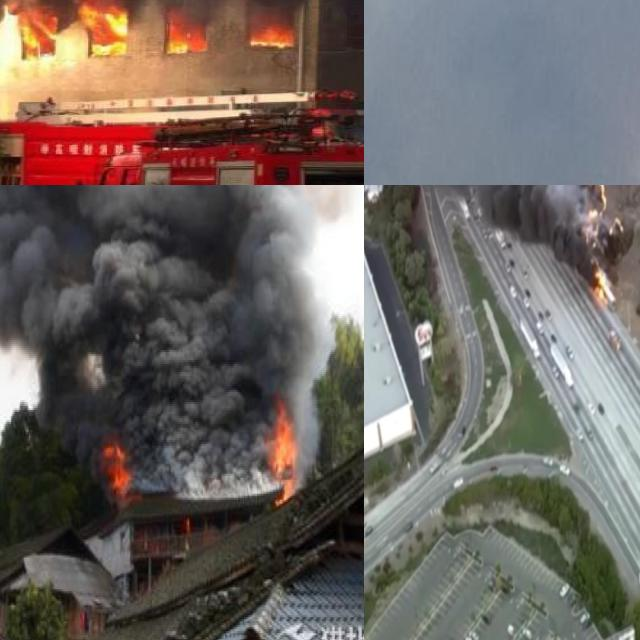fire: (0, 0, 130, 59), (267, 402, 297, 502), (162, 11, 205, 54), (102, 442, 131, 489), (248, 22, 292, 48), (591, 265, 609, 306), (585, 185, 605, 206), (180, 512, 192, 532)
smoke: (0, 185, 346, 491), (364, 0, 640, 185), (364, 185, 608, 275)
